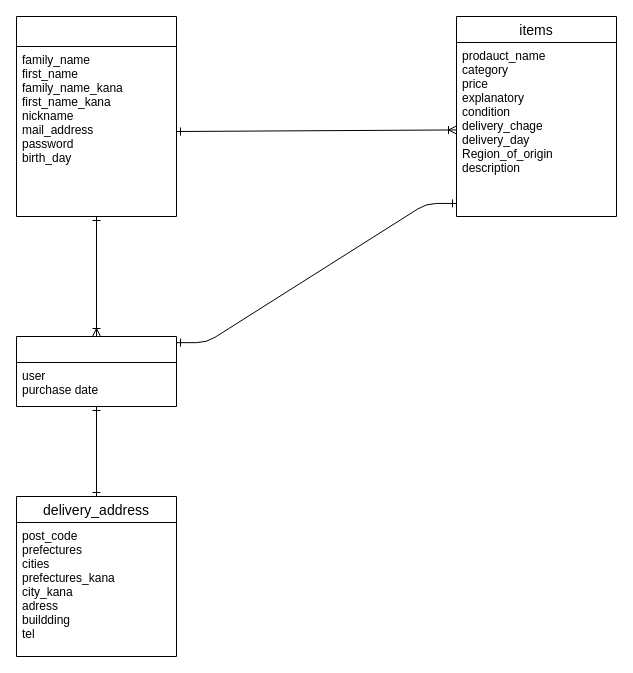
Image size: 633x673. Some labels were removed from this diagram. The box of each missing label's shape, as (x1, y1, x2, y2) in pixels:
purchaser_record: (16, 336, 176, 406)
users: (16, 16, 176, 216)
